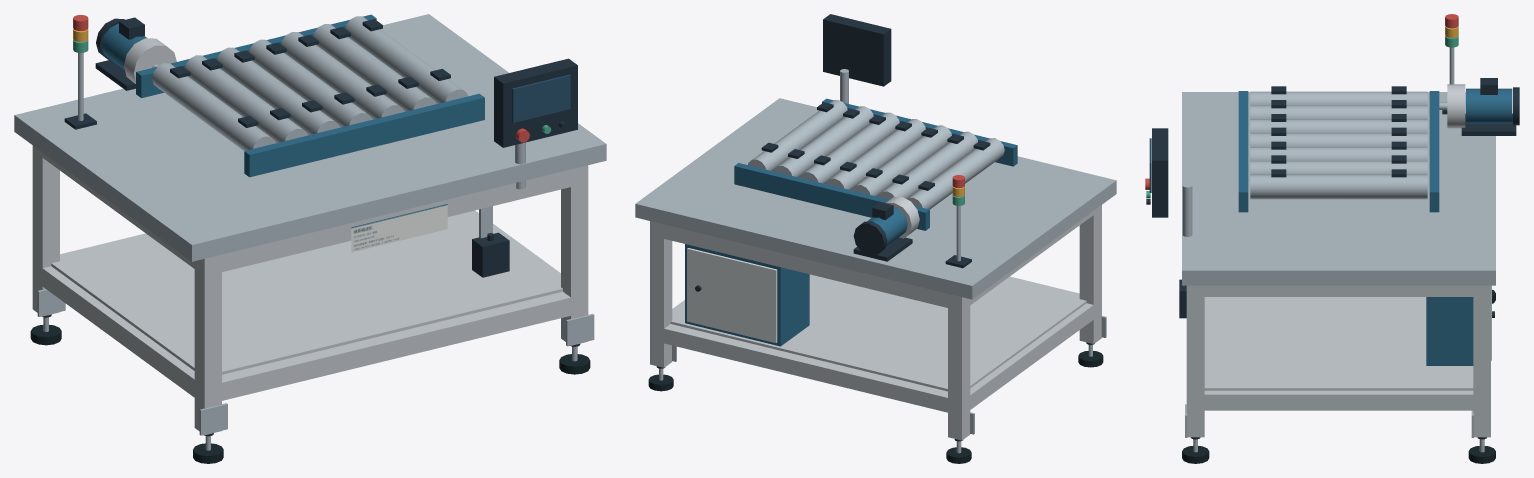
File: chain-conveyor-cell.glb
3 views of the same model, side by side, from view 1: azimuth 30°, elevation 25°; view 2: azimuth 150°, elevation 25°; view 3: azimuth 270°, elevation 25° (orthographic). The views are drawn at different scales.
Visible parts, largest first — view 1: ClosedMachineBed_28, LowerShelf_29, SlottedExtrusion_22, TransportRail_49, SlottedExtrusion_23, SlottedExtrusion_24, SlottedExtrusion_8, ConsoleBack_34, SlottedExtrusion_18, SlottedExtrusion_3, TransportRoller_50, TransportRoller_53 (+15 smaller); view 2: ClosedMachineBed_28, LowerShelf_29, BackDoor_31, SlottedExtrusion_20, SlottedExtrusion_21, ConsoleBack_34, TransportRail_48, SlottedExtrusion_3, Cabinet_30, SlottedExtrusion_13, SlottedExtrusion_24, SlottedExtrusion_8 (+13 smaller); view 3: ClosedMachineBed_28, LowerShelf_29, SlottedExtrusion_26, TransportRoller_56, SlottedExtrusion_27, Cabinet_30, SlottedExtrusion_18, SlottedExtrusion_13, TransportRoller_50, TransportRoller_52, TransportRoller_51, TransportRoller_54 (+11 smaller).
Boxes of the visible parts, x1,y1,x2,y2 form: ClosedMachineBed_28: (14,14,606,261); LowerShelf_29: (51,212,562,374); SlottedExtrusion_22: (213,291,579,402); TransportRail_49: (244,93,484,177); SlottedExtrusion_23: (213,167,579,273); SlottedExtrusion_24: (37,265,199,400); SlottedExtrusion_8: (194,254,221,434); ConsoleBack_34: (494,58,577,147); SlottedExtrusion_18: (561,165,588,345); SlottedExtrusion_3: (32,145,59,316); TransportRoller_50: (152,63,275,150); TransportRoller_53: (249,39,371,127); ClosedMachineBed_28: (635,98,1116,299); LowerShelf_29: (670,274,1086,391); BackDoor_31: (687,248,777,342); SlottedExtrusion_20: (658,324,948,412); SlottedExtrusion_21: (657,223,954,307); ConsoleBack_34: (823,14,891,86); TransportRail_48: (734,163,929,230); SlottedExtrusion_3: (948,294,970,440); Cabinet_30: (685,244,809,346); SlottedExtrusion_13: (650,221,672,367); SlottedExtrusion_24: (970,303,1093,409); SlottedExtrusion_8: (1079,205,1101,343); ClosedMachineBed_28: (1182,92,1495,285); LowerShelf_29: (1204,297,1473,390); SlottedExtrusion_26: (1195,390,1482,410); TransportRoller_56: (1250,174,1427,199); SlottedExtrusion_27: (1195,285,1481,296); Cabinet_30: (1426,297,1473,365); SlottedExtrusion_18: (1186,285,1204,437); SlottedExtrusion_13: (1473,285,1490,437); TransportRoller_50: (1250,91,1427,105); TransportRoller_52: (1250,119,1427,133); TransportRoller_51: (1250,105,1427,119); TransportRoller_54: (1250,147,1427,160).
Size of the model in its own units: 1.55 by 1.18 by 1.37.
Materials: 11 (1 with a texture image).
